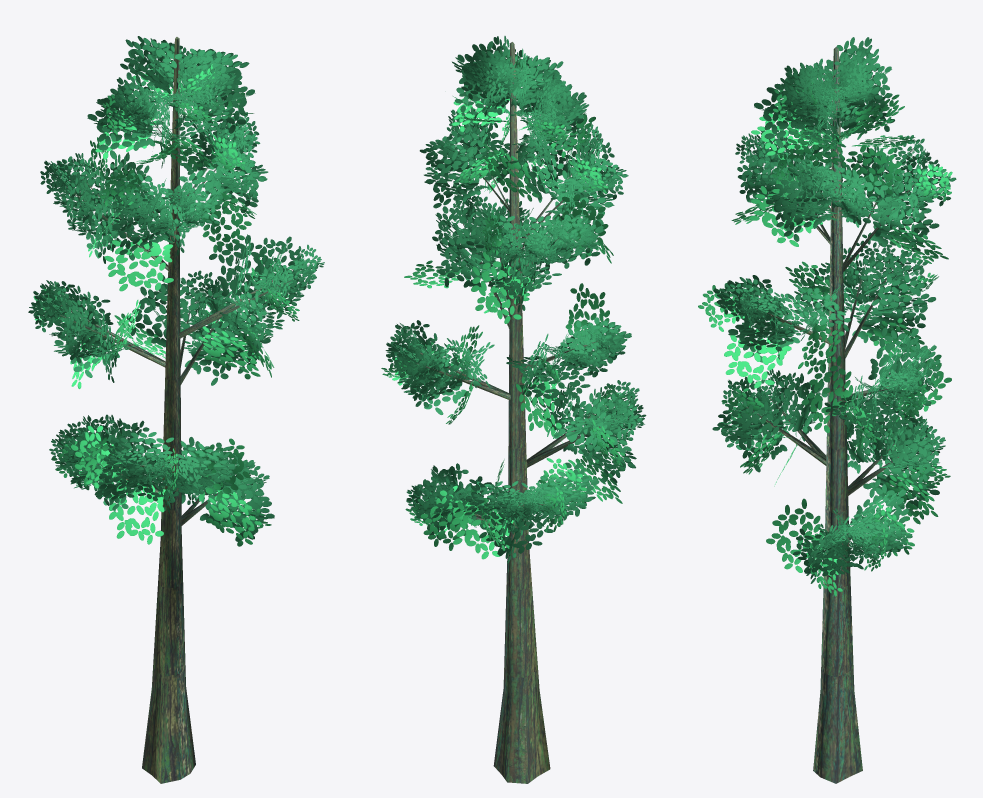
File: big-tree.obj
3 renders of one model, left to right at view 1: azimuth 30°, elevation 25°; view 2: azimuth 150°, elevation 25°; view 3: azimuth 270°, elevation 25°, orthographic.
Parts seen in each view (by area): view 1: albero-grande1_leave_tree_01_mat, albero-grande1_leave_tree_00_mat, albero-grande1_jabami_tronc_mat.001; view 2: albero-grande1_leave_tree_01_mat, albero-grande1_leave_tree_00_mat, albero-grande1_jabami_tronc_mat.001; view 3: albero-grande1_leave_tree_01_mat, albero-grande1_leave_tree_00_mat, albero-grande1_jabami_tronc_mat.001.
Boxes of the visible parts, x1,y1,x2,y2 form: albero-grande1_leave_tree_01_mat: (28,36,324,541); albero-grande1_leave_tree_00_mat: (33,64,299,546); albero-grande1_jabami_tronc_mat.001: (60,37,293,783); albero-grande1_leave_tree_01_mat: (385,36,646,563); albero-grande1_leave_tree_00_mat: (381,51,625,559); albero-grande1_jabami_tronc_mat.001: (416,42,617,783); albero-grande1_leave_tree_01_mat: (712,37,956,583); albero-grande1_leave_tree_00_mat: (698,81,952,596); albero-grande1_jabami_tronc_mat.001: (746,47,921,783).
Size of the model in its own units: 4.56 by 12.79 by 4.3.
